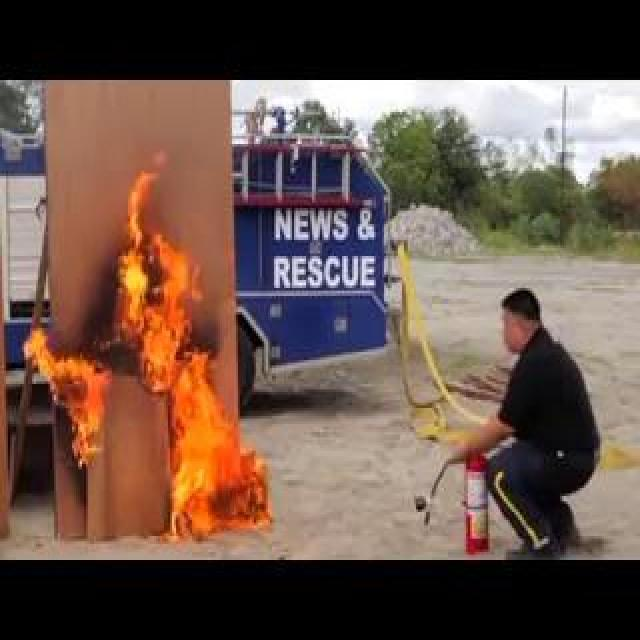Fire: (143, 332, 274, 424)
